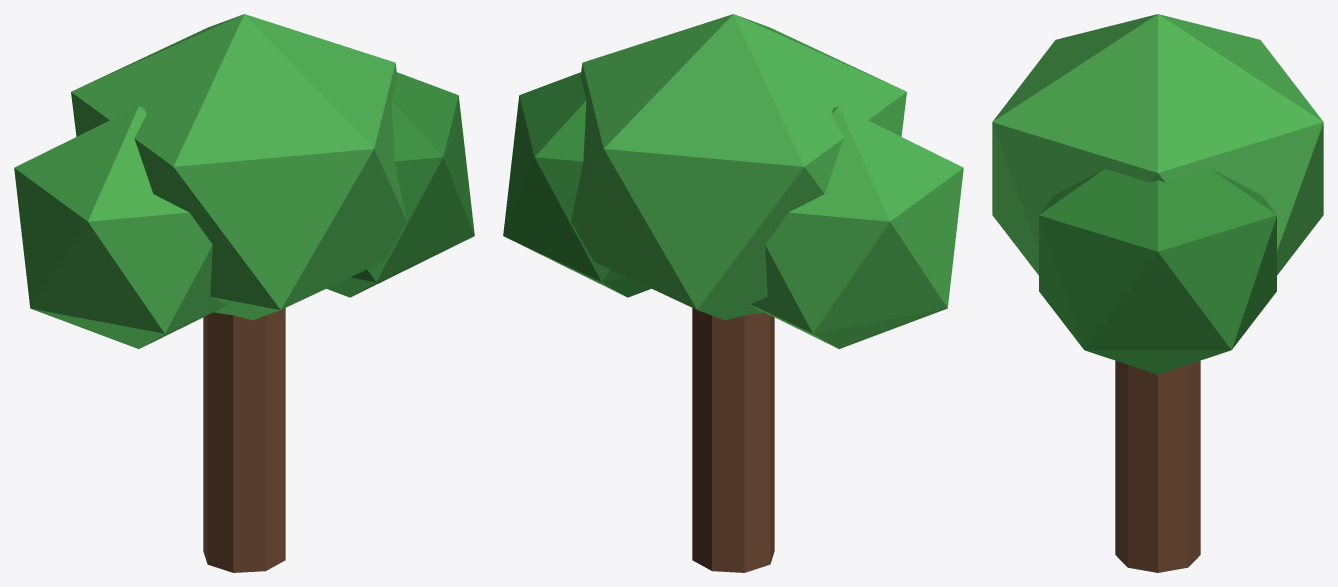
Rendered from Tree.fbx.
3 views of the same model, side by side, from view 1: azimuth 30°, elevation 25°; view 2: azimuth 150°, elevation 25°; view 3: azimuth 270°, elevation 25° (orthographic).
Visible parts, largest first — view 1: Tree_Leaves, Tree_Leaves_Left, Tree_Trunk, Tree_Leaves_Right; view 2: Tree_Leaves, Tree_Leaves_Left, Tree_Trunk, Tree_Leaves_Right; view 3: Tree_Leaves, Tree_Leaves_Right, Tree_Trunk.
Part boxes in pixels (<box>): Tree_Leaves: <box>71,14,406,320</box>; Tree_Leaves_Left: <box>14,106,227,348</box>; Tree_Trunk: <box>203,308,285,572</box>; Tree_Leaves_Right: <box>326,72,474,297</box>; Tree_Leaves: <box>571,14,906,320</box>; Tree_Leaves_Left: <box>750,106,963,348</box>; Tree_Trunk: <box>692,308,774,572</box>; Tree_Leaves_Right: <box>503,72,651,297</box>; Tree_Leaves: <box>992,14,1323,275</box>; Tree_Leaves_Right: <box>1039,169,1276,374</box>; Tree_Trunk: <box>1115,360,1200,572</box>.
Bounding box in the file's own units: 406 × 490 × 272.
